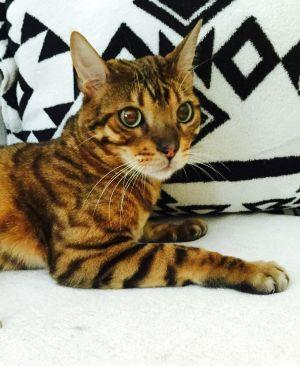bengal: (65, 19, 221, 193)
